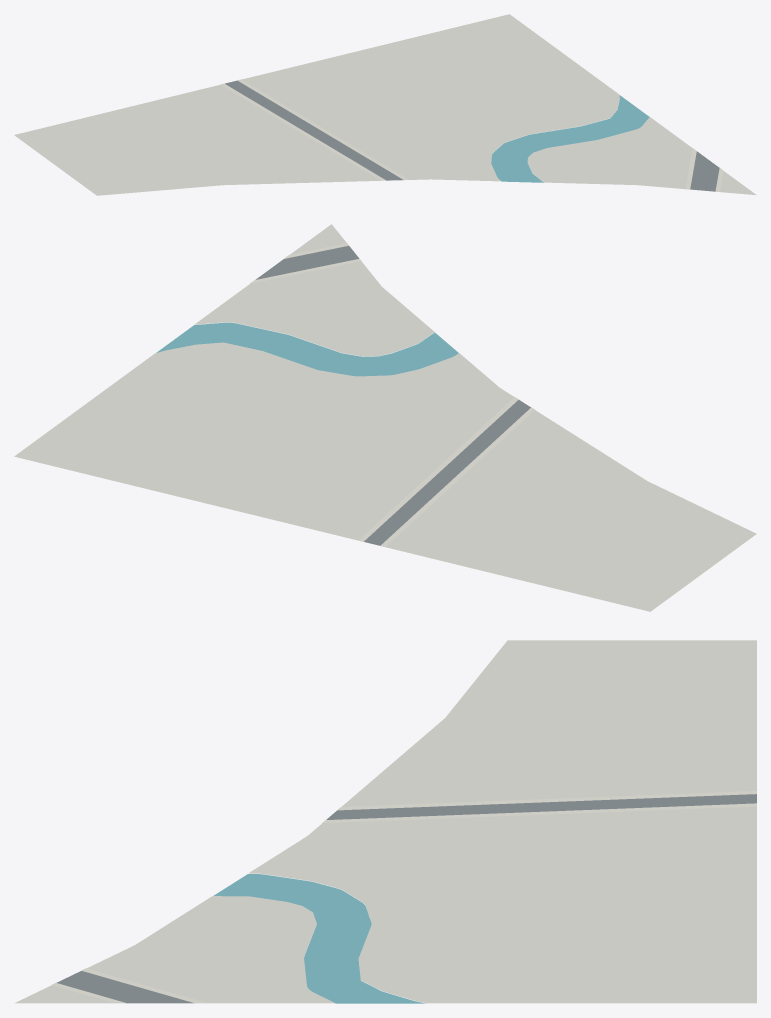
3 renders of one model, top to bottom at view 1: azimuth 30°, elevation 25°; view 2: azimuth 150°, elevation 25°; view 3: azimuth 270°, elevation 25°, orthographic. The views are drawn at different scales.
Visible parts, largest first — view 1: city; view 2: city; view 3: city.
Part boxes in pixels (<box>): city: <box>14,14,756,195</box>; city: <box>14,224,756,611</box>; city: <box>14,640,756,1003</box>.
Bounding box in the file's own units: 379 × 0.4 × 328.
